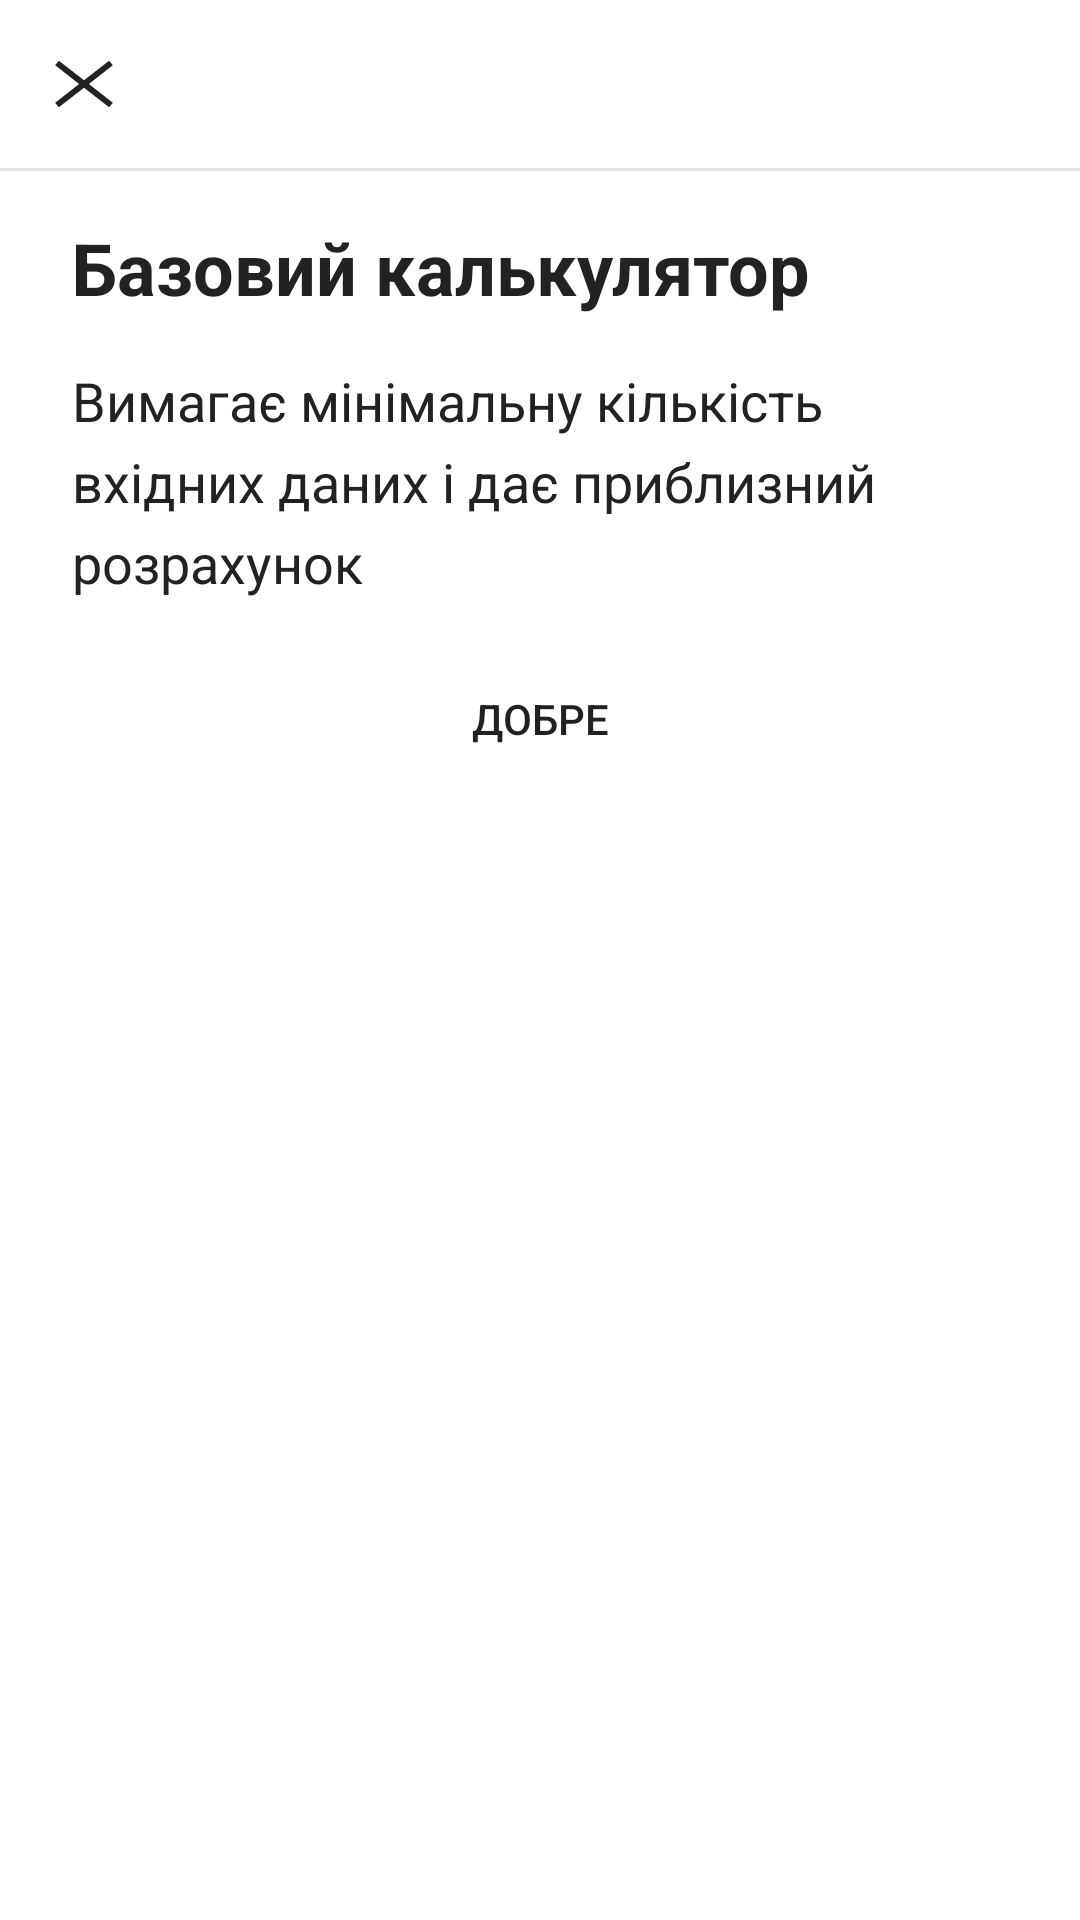

Named icons in this screenshot (1080px x 1920px) and their bounding boxes, detection(x1, y1, x2, y2):
close cross: detection(55, 61, 113, 107)
